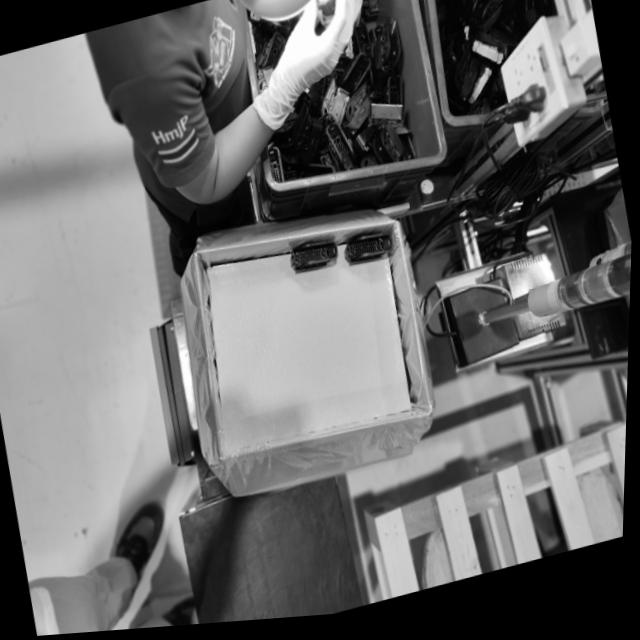P38: (292, 245, 340, 278), (346, 239, 395, 270)
